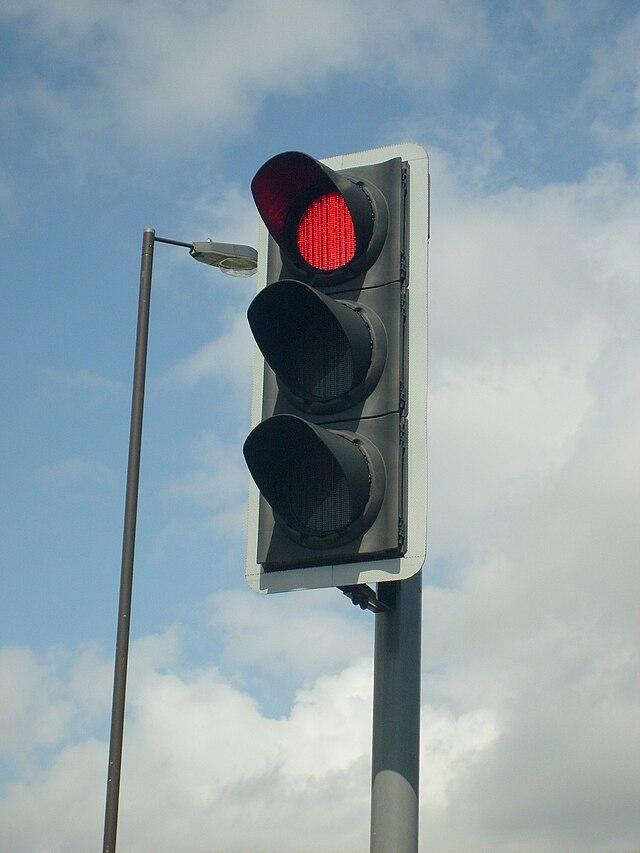traffic light: (181, 126, 487, 832)
